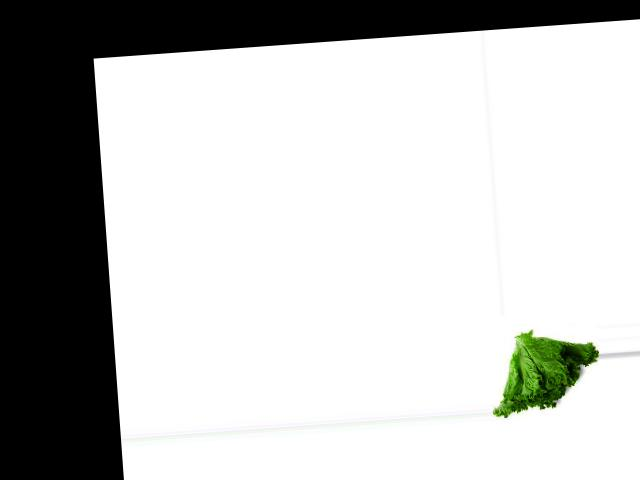lettuce: (486, 328, 604, 421)
